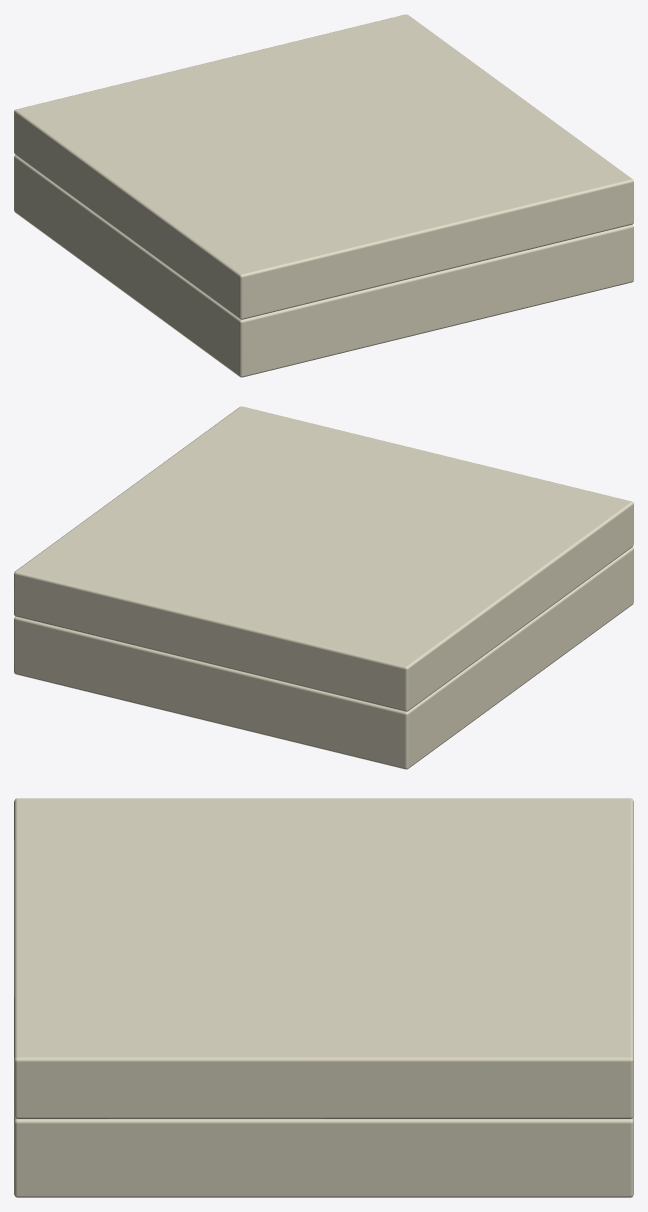
File: rural-scavenging-settlements-cellar-floor-82a237b7__26504.glb
3 renders of one model, top to bottom at view 1: azimuth 30°, elevation 25°; view 2: azimuth 150°, elevation 25°; view 3: azimuth 270°, elevation 25°, orthographic. The views are drawn at different scales.
Visible parts, largest first — view 1: cellar-floor; view 2: cellar-floor; view 3: cellar-floor.
Boxes of the visible parts, <box> form: cellar-floor: <box>14,14,633,377</box>; cellar-floor: <box>14,406,633,769</box>; cellar-floor: <box>14,798,633,1197</box>.
Size of the model in its own units: 2 by 0.5001 by 2.
